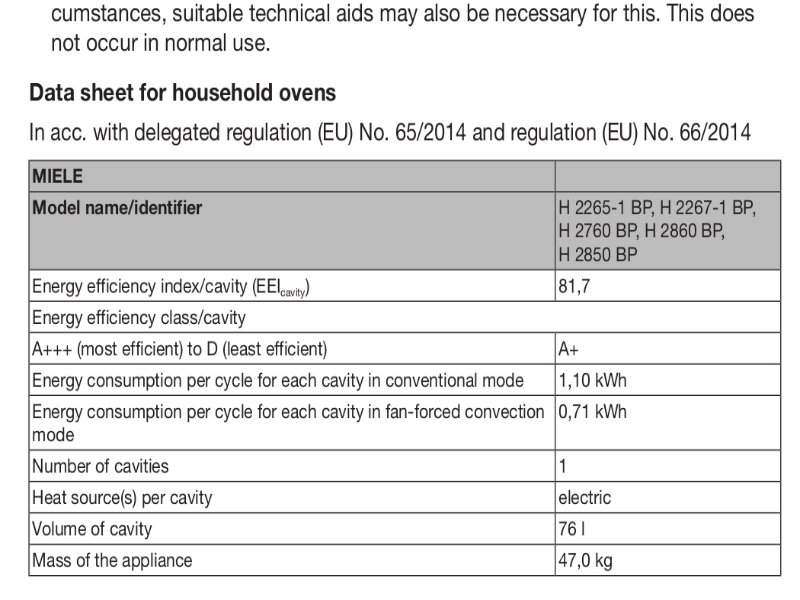border: (15, 153, 792, 587)
cell: (31, 400, 546, 445), (557, 195, 761, 265), (31, 367, 530, 391), (30, 335, 340, 361), (30, 272, 314, 299), (31, 303, 315, 329), (29, 548, 225, 573), (31, 515, 223, 540), (31, 453, 207, 480), (30, 487, 222, 510), (31, 196, 208, 218), (557, 400, 657, 428), (558, 367, 655, 392), (557, 546, 631, 573), (31, 164, 102, 189), (557, 487, 624, 510), (557, 273, 618, 297), (557, 517, 608, 540), (557, 453, 587, 477), (557, 338, 588, 359)
